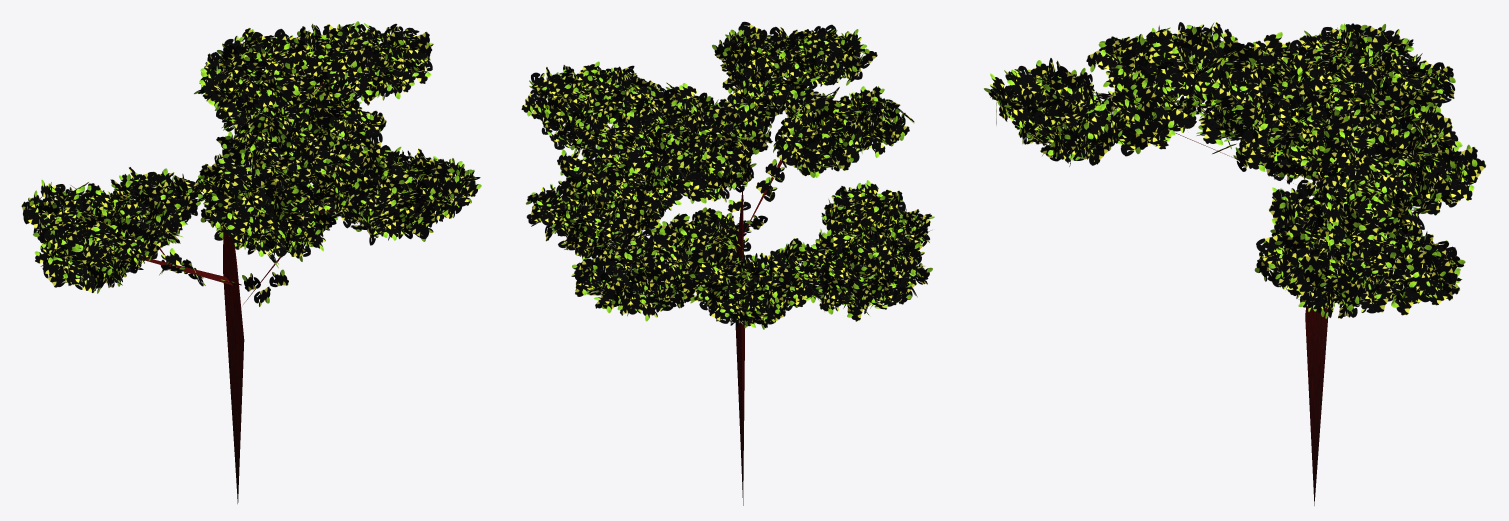
Rendered from acacia_flat_v02_LOD1.glb.
The picture shows the model from 3 angles, left to right: view 1: azimuth 30°, elevation 25°; view 2: azimuth 150°, elevation 25°; view 3: azimuth 270°, elevation 25°; orthographic projection. The views are drawn at different scales.
Parts seen in each view (by area): view 1: acacia_flat_v02_LOD1; view 2: acacia_flat_v02_LOD1; view 3: acacia_flat_v02_LOD1.
Boxes of the visible parts, left/top/right/bottom form: acacia_flat_v02_LOD1: left=21, top=21, right=481, bottom=503; acacia_flat_v02_LOD1: left=521, top=21, right=934, bottom=505; acacia_flat_v02_LOD1: left=984, top=22, right=1486, bottom=505.
Bounding box in the file's own units: 10.66 × 10.83 × 10.08.
2 materials, 2 textured.
